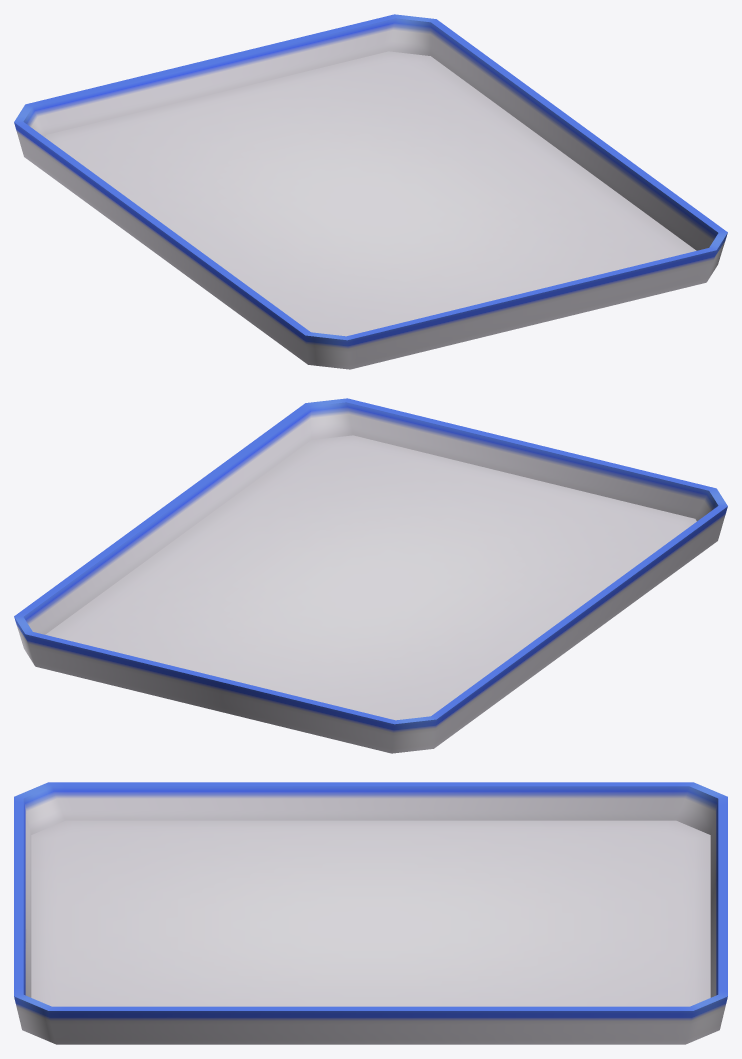
The model's file is jsf_Tray_01.fbx.
3 views of the same model, one above another, from view 1: azimuth 30°, elevation 25°; view 2: azimuth 150°, elevation 25°; view 3: azimuth 270°, elevation 25° (orthographic). The views are drawn at different scales.
Visible parts, largest first — view 1: jsf_Tray_01; view 2: jsf_Tray_01; view 3: jsf_Tray_01.
Part boxes in pixels (box(x1,y1,x2,y2)): jsf_Tray_01: box(14, 14, 727, 369); jsf_Tray_01: box(14, 398, 727, 753); jsf_Tray_01: box(14, 782, 727, 1044).
Bounding box in the file's own units: 19.76 × 1.5 × 26.1.
